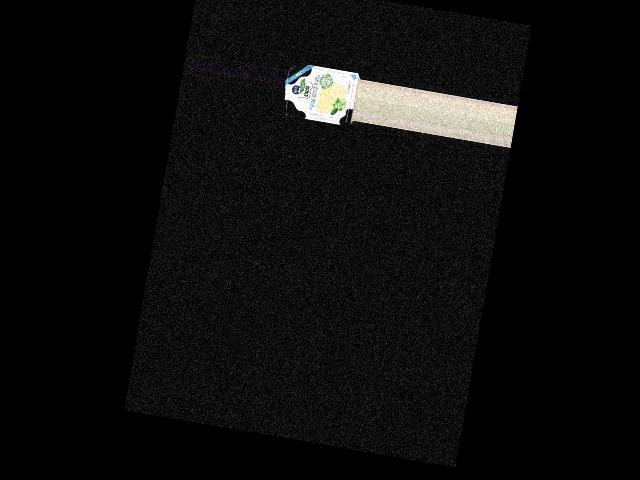cheese: (280, 58, 362, 129)
